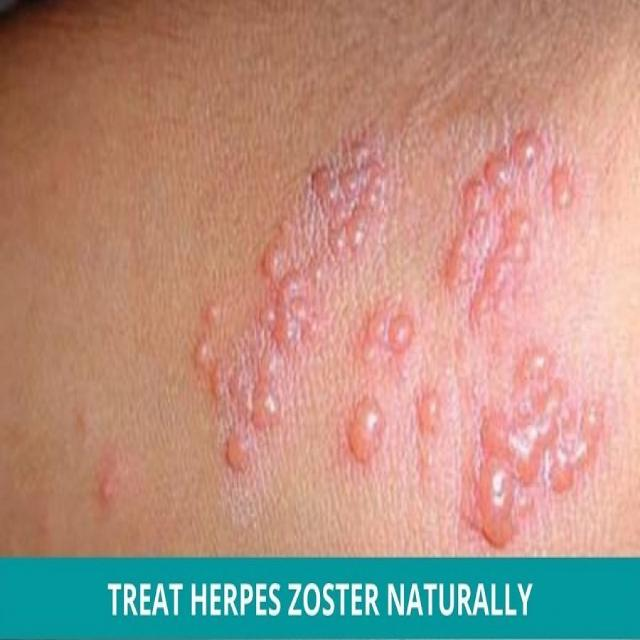herpes zoster: (175, 115, 613, 549)
